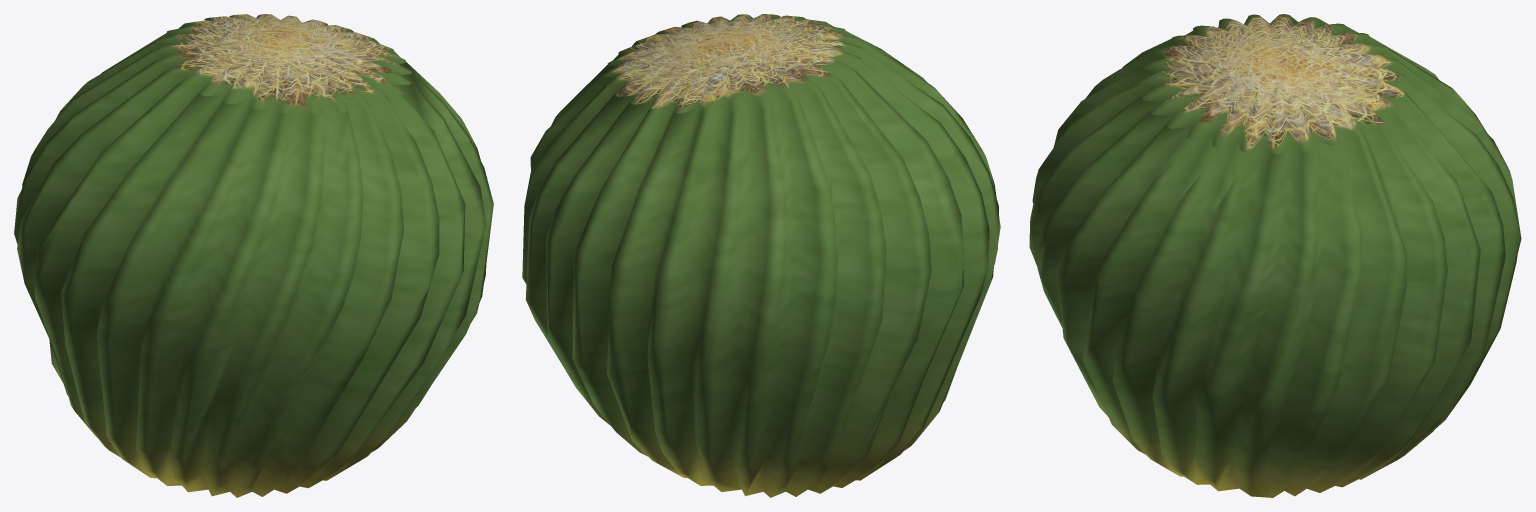
The model's file is cactus_barrel_2.glb.
3 renders of one model, left to right at view 1: azimuth 30°, elevation 25°; view 2: azimuth 150°, elevation 25°; view 3: azimuth 270°, elevation 25°, orthographic. The views are drawn at different scales.
Visible parts, largest first — view 1: prop; view 2: prop; view 3: prop.
Boxes of the visible parts, x1,y1,x2,y2 form: prop: [14, 14, 493, 497]; prop: [522, 14, 1000, 497]; prop: [1029, 14, 1521, 497].
Bounding box in the file's own units: 0.8666 × 0.7989 × 0.8646.
Materials: 2 (2 with a texture image).
